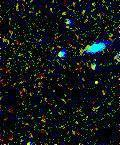star: (80, 69, 110, 99)
